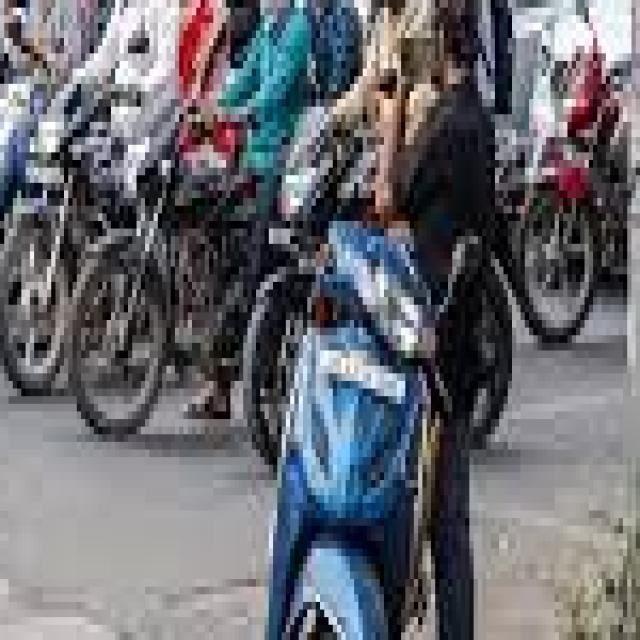bike: (72, 69, 252, 495), (273, 213, 422, 640), (520, 38, 636, 351), (0, 54, 90, 412), (247, 91, 320, 465), (0, 38, 4, 358)
